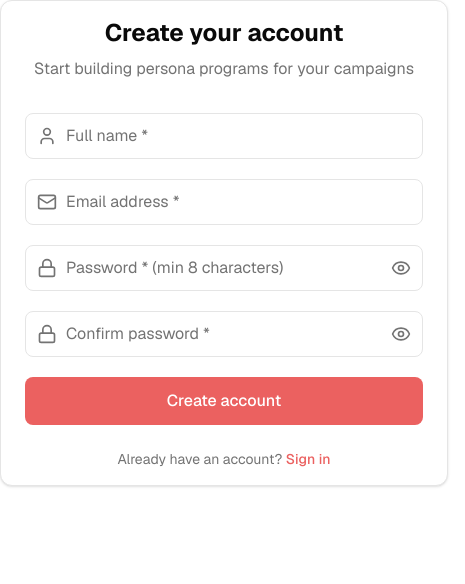
Test: Authentication Flow Integration › Registration Flow › validates password strength
Type "John Doe" into the field with placeholder "Full name *" at (224, 136), box [25,113,423,159]
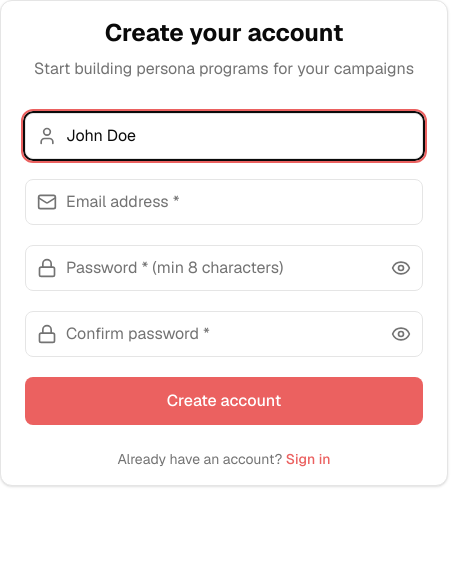
Type "john@example.com" into the field with placeholder "Email address *" at (224, 202), box [25,179,423,225]
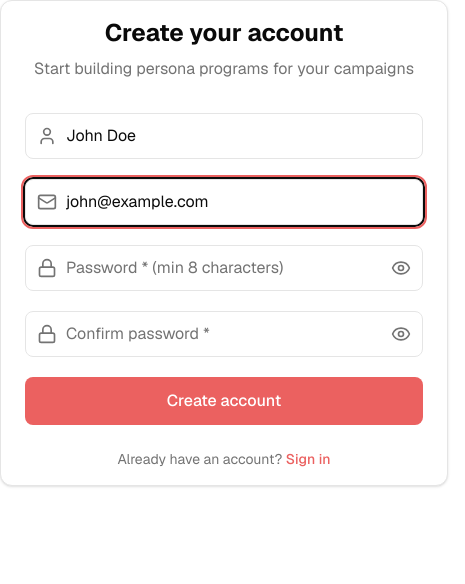
Type "short" into the password field with placeholder "Password * (min 8 characters)" at (224, 268), box [25,245,423,291]
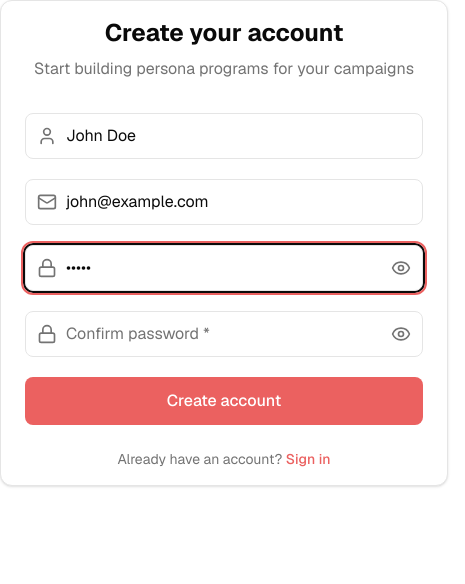
Type "short" into the password field with placeholder "Confirm password *" at (224, 334), box [25,311,423,357]
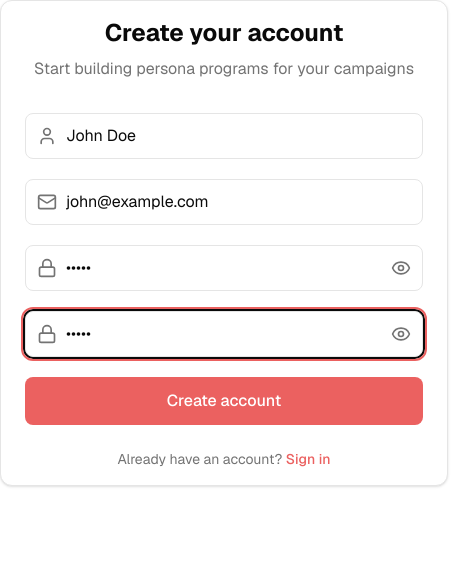
Click the button "Create account" at (224, 401), box [25,377,423,425]
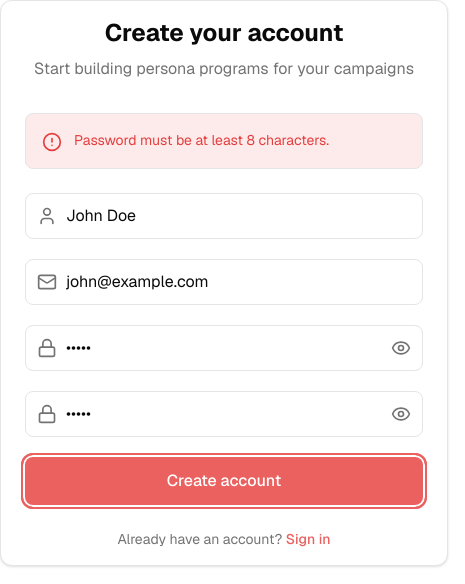
Now the text "Password must be at least 8 characters." is shown, box [74,130,329,150]
